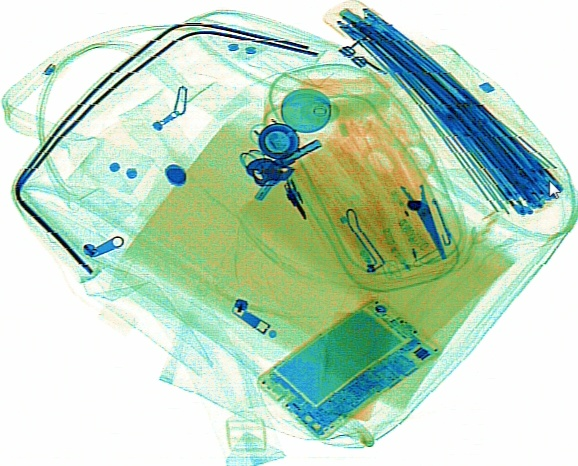scissors: (360, 139, 448, 260)
